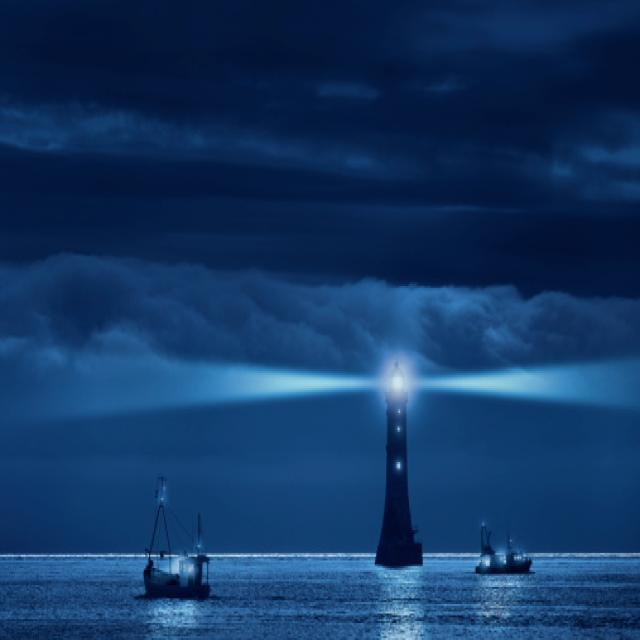Boat: (466, 524, 568, 601), (142, 506, 219, 608)
